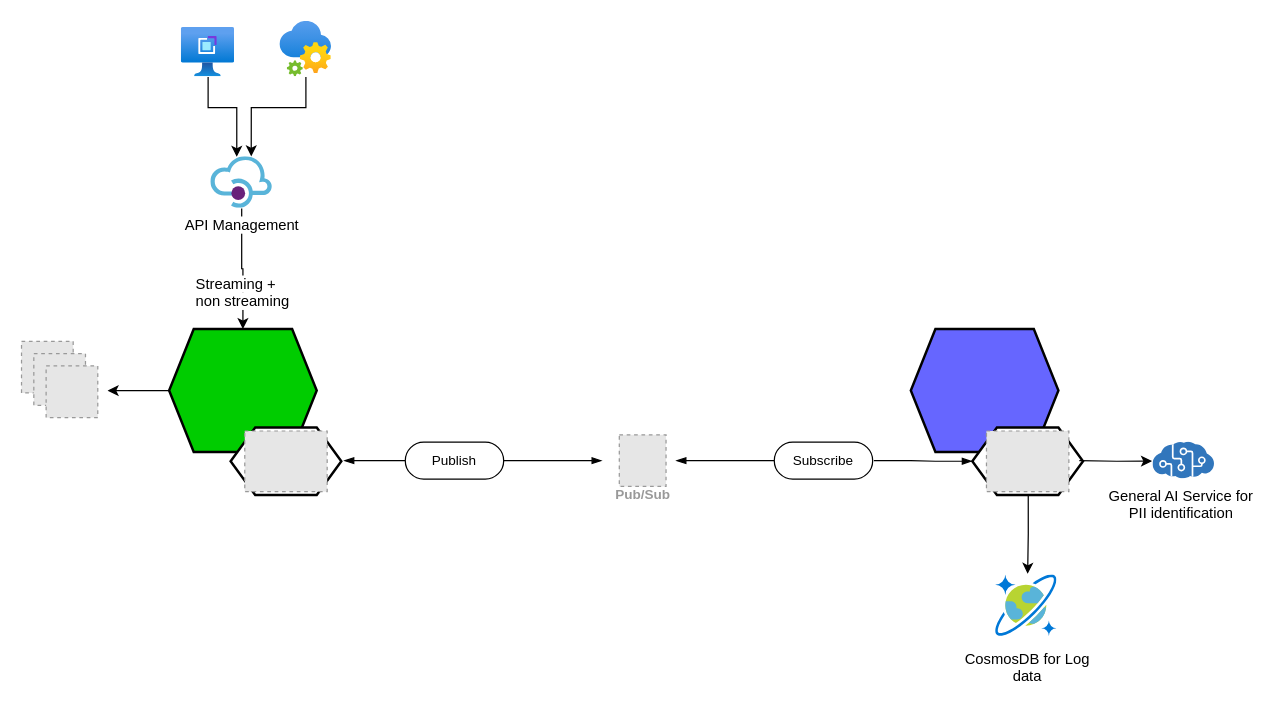
This 1282x724 diagram has some shape labels left out. Grey dashed boxes stand in for pictures. Here are the shapes that lost their labels. From the top down, the centre of each, then its label:
At [242,390]: "Ai-Sentry Proxy".
At [984,390]: "CosmosDB Logger + PII Stripping".
